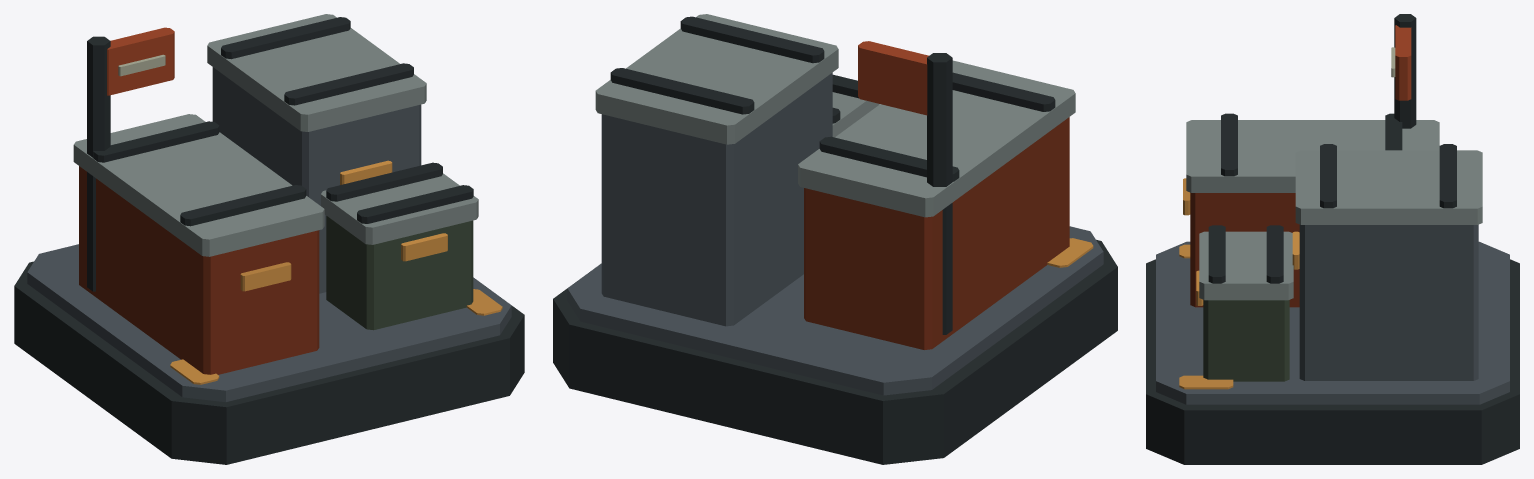
Rendered from outpost_storage.glb.
3 views of the same model, side by side, from view 1: azimuth 30°, elevation 25°; view 2: azimuth 150°, elevation 25°; view 3: azimuth 270°, elevation 25° (orthographic). The views are drawn at different scales.
Visible parts, largest first — view 1: outpost_storage; view 2: outpost_storage; view 3: outpost_storage.
Boxes of the visible parts, bbox=[...] form: outpost_storage: bbox=[14, 14, 524, 464]; outpost_storage: bbox=[553, 14, 1117, 464]; outpost_storage: bbox=[1146, 14, 1519, 464].
Size of the model in its own units: 1.92 by 1.67 by 1.86.
